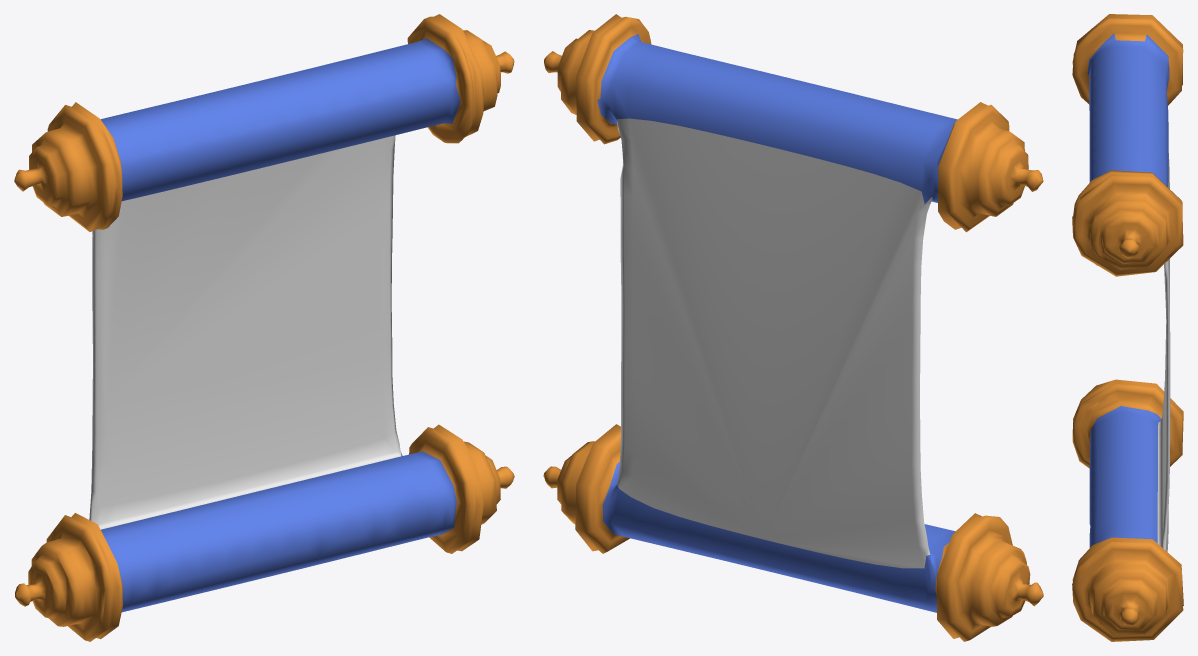
Rendered from SCROLL.fbx.
3 renders of one model, left to right at view 1: azimuth 30°, elevation 25°; view 2: azimuth 150°, elevation 25°; view 3: azimuth 270°, elevation 25°, orthographic. The views are drawn at different scales.
Parts seen in each view (by area): view 1: model.001; view 2: model.001; view 3: model.001.
Part boxes in pixels (<box>): model.001: <box>14,14,514,641</box>; model.001: <box>543,14,1043,641</box>; model.001: <box>1072,14,1183,641</box>.
Size of the model in its own units: 189 by 189 by 41.
